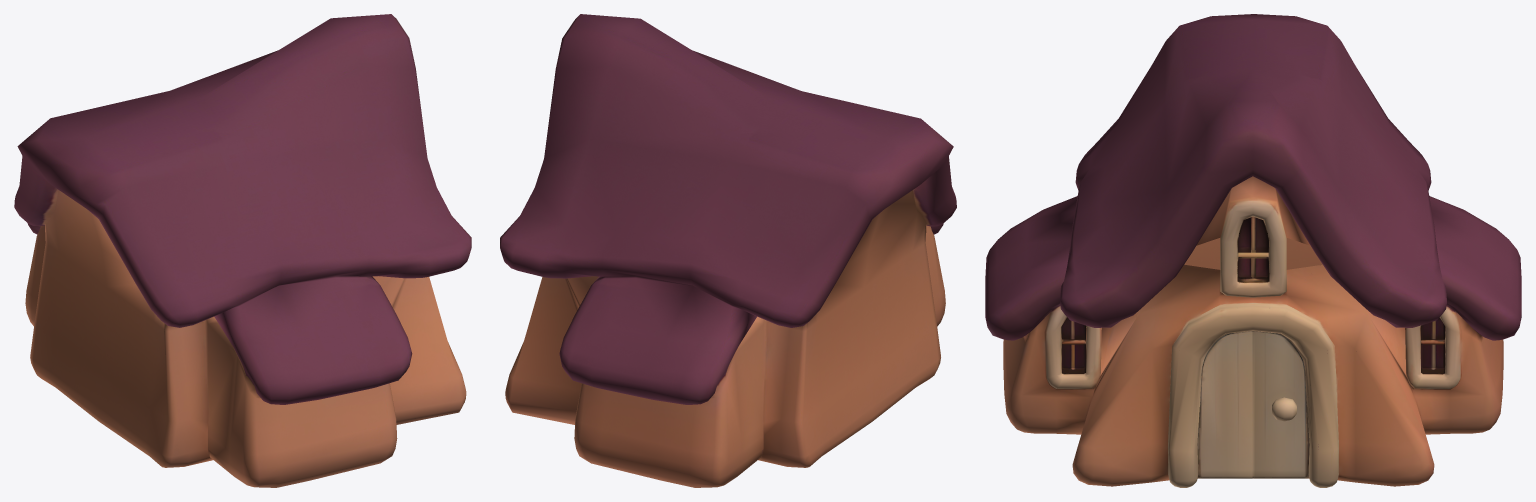
The model's file is 折叠鞍顶的黏土奇幻工坊-4.glb.
3 views of the same model, side by side, from view 1: azimuth 30°, elevation 25°; view 2: azimuth 150°, elevation 25°; view 3: azimuth 270°, elevation 25° (orthographic). The views are drawn at different scales.
Visible parts, largest first — view 1: tripo_node_b6957d41-551b-4d09-9757-a67e471e3653; view 2: tripo_node_b6957d41-551b-4d09-9757-a67e471e3653; view 3: tripo_node_b6957d41-551b-4d09-9757-a67e471e3653.
Boxes of the visible parts, x1,y1,x2,y2 form: tripo_node_b6957d41-551b-4d09-9757-a67e471e3653: [14, 14, 471, 487]; tripo_node_b6957d41-551b-4d09-9757-a67e471e3653: [500, 14, 956, 487]; tripo_node_b6957d41-551b-4d09-9757-a67e471e3653: [985, 14, 1521, 487].
Bounding box in the file's own units: 0.8004 × 0.7534 × 1.
Materials: 1 (1 with a texture image).
